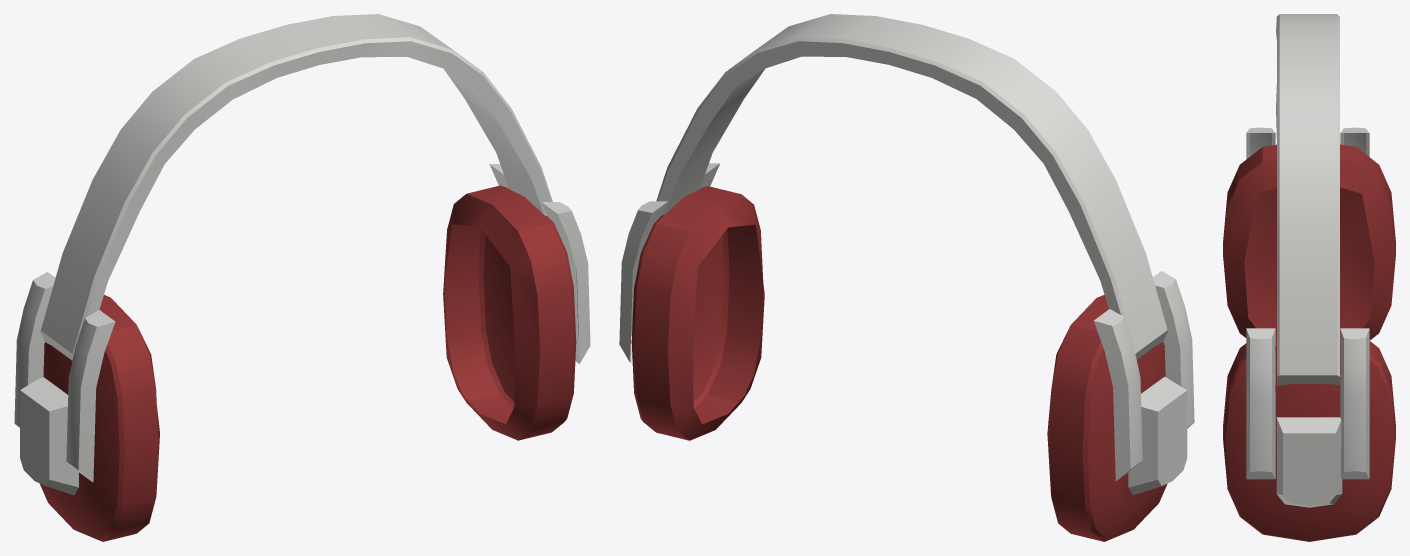
Rendered from _headwear_003.fbx.
The picture shows the model from 3 angles, left to right: view 1: azimuth 30°, elevation 25°; view 2: azimuth 150°, elevation 25°; view 3: azimuth 270°, elevation 25°; orthographic projection. The views are drawn at different scales.
Parts seen in each view (by area): view 1: f_headwear_003; view 2: f_headwear_003; view 3: f_headwear_003.
Boxes of the visible parts, left/top/right/bottom form: f_headwear_003: left=14, top=14, right=590, bottom=541; f_headwear_003: left=619, top=14, right=1194, bottom=541; f_headwear_003: left=1223, top=14, right=1395, bottom=541.
Bounding box in the file's own units: 22.26 × 17.55 × 6.89.
